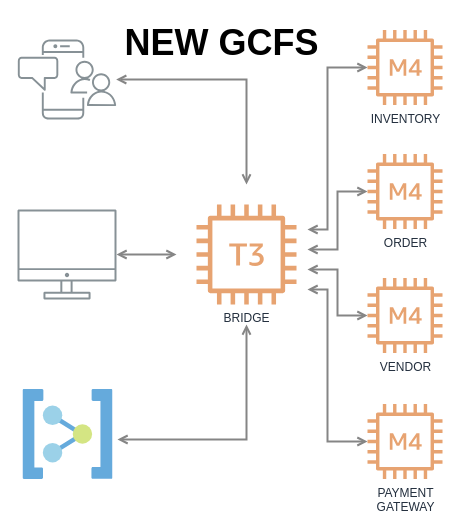
The diagram is 459 pixels wide and 532 high, and some of its shapes have lost their labels. The shapes that lost their labels are listed below. From the top down, each one's centre as x and y in pixels, then its label:
(x=66, y=79): MOBILE USER
(x=66, y=254): AVBO
(x=67, y=434): INTEGRATION
